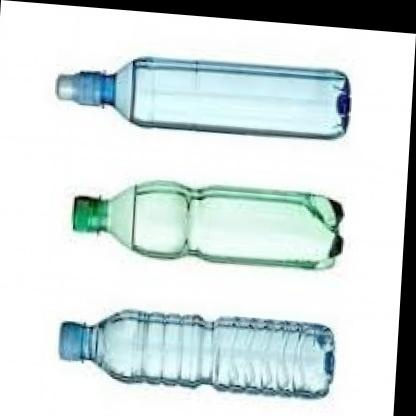trash: (59, 310, 334, 397), (56, 57, 350, 137), (73, 181, 342, 268)
